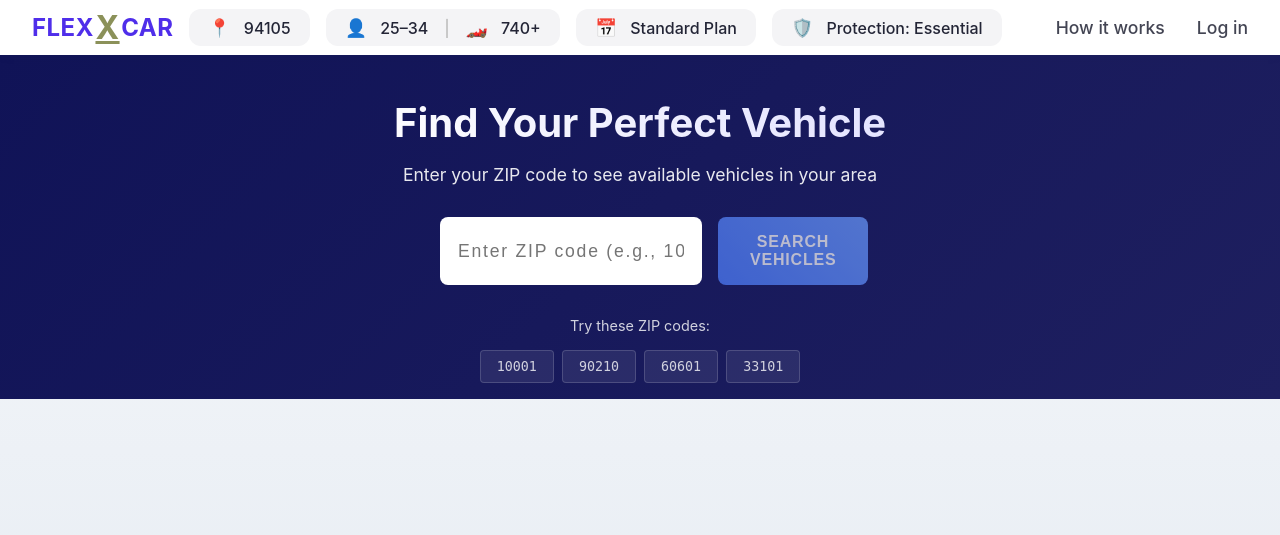
Test case: App › shows error for invalid ZIP code
This screenshot has width=1280, height=535.
Type "123" into the field with placeholder "Enter ZIP code (e.g., 10001)".
click(571, 251); type("123")  # box [440,217,702,285]
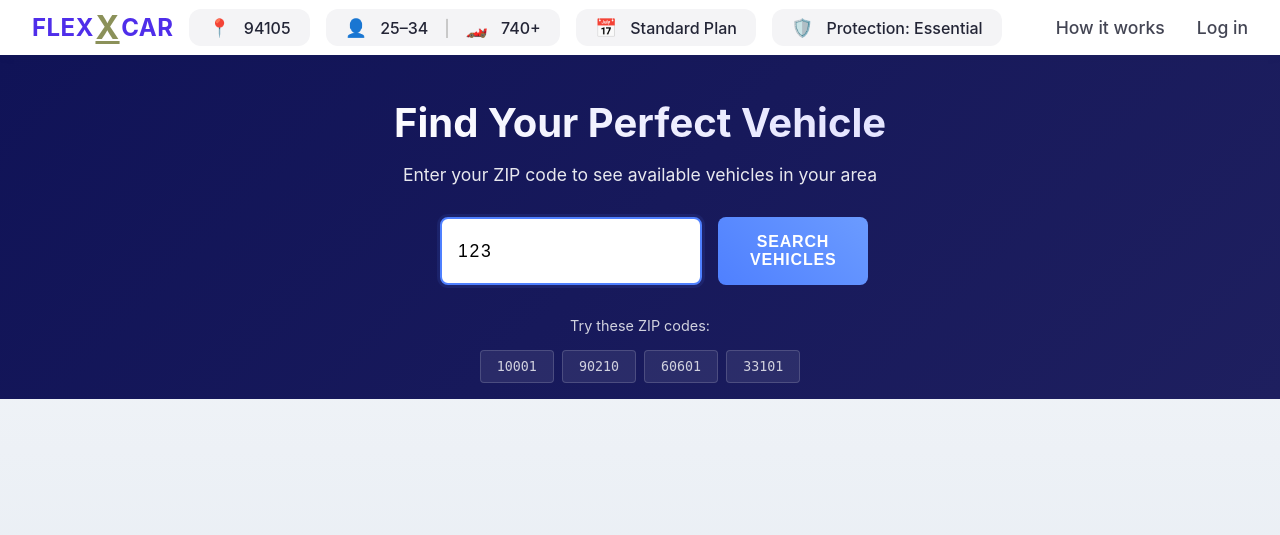
Click the button "Search Vehicles".
click(793, 251)  # box [718,217,868,285]
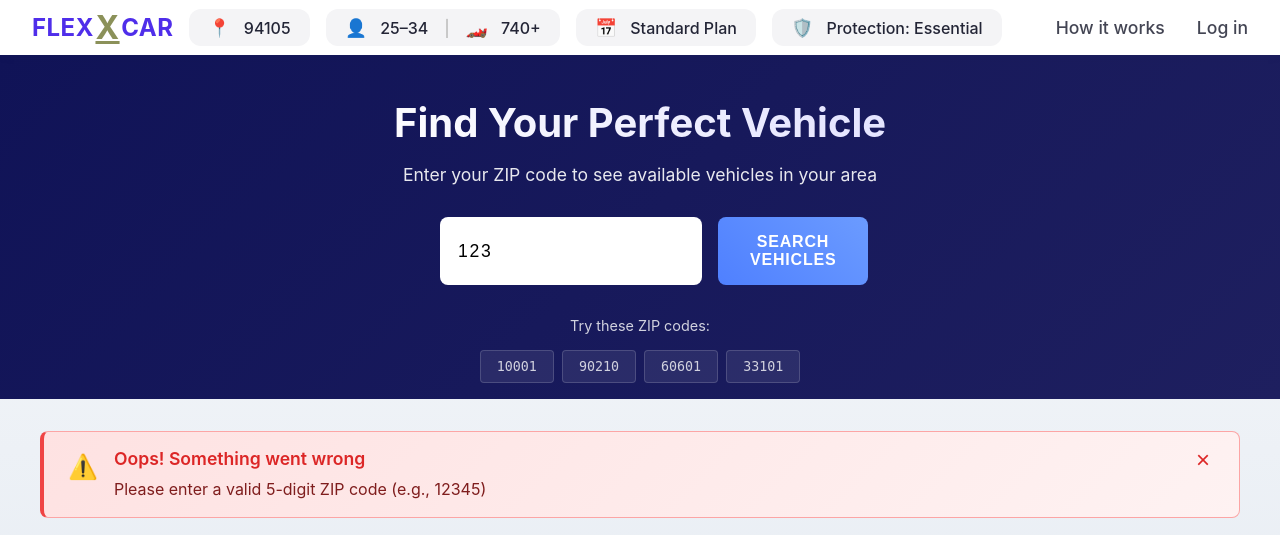
Now the text "Please enter a valid 5-digit ZIP code (e.g., 12345)" is shown, box [114,479,486,499]
